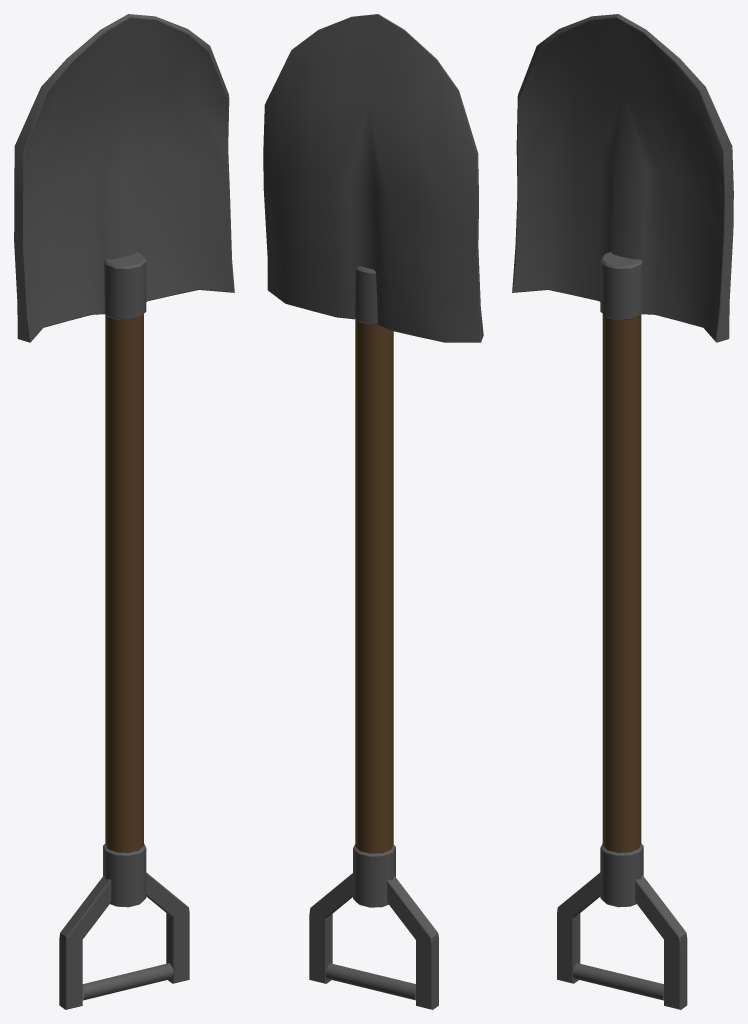
The model's file is Shovel_01.fbx.
The picture shows the model from 3 angles, left to right: view 1: azimuth 30°, elevation 25°; view 2: azimuth 150°, elevation 25°; view 3: azimuth 330°, elevation 25°; orthographic projection.
Parts seen in each view (by area): view 1: polySurface27; view 2: polySurface27; view 3: polySurface27.
Part boxes in pixels (x1,y1,x2,y2): polySurface27: (14,14,234,1009); polySurface27: (263,14,483,1009); polySurface27: (512,14,733,1009).
Size of the model in its own units: 19.08 by 83.28 by 3.78.
